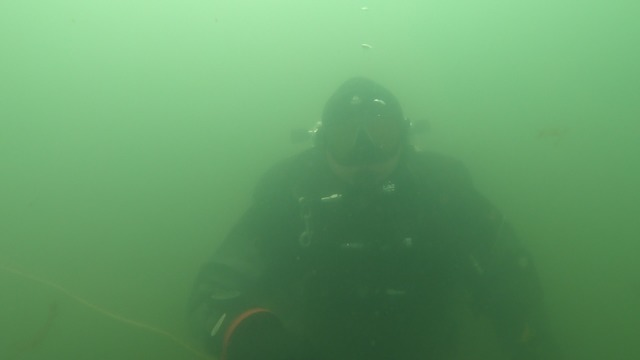Diver: (172, 65, 552, 352)
Head: (310, 71, 425, 208)
